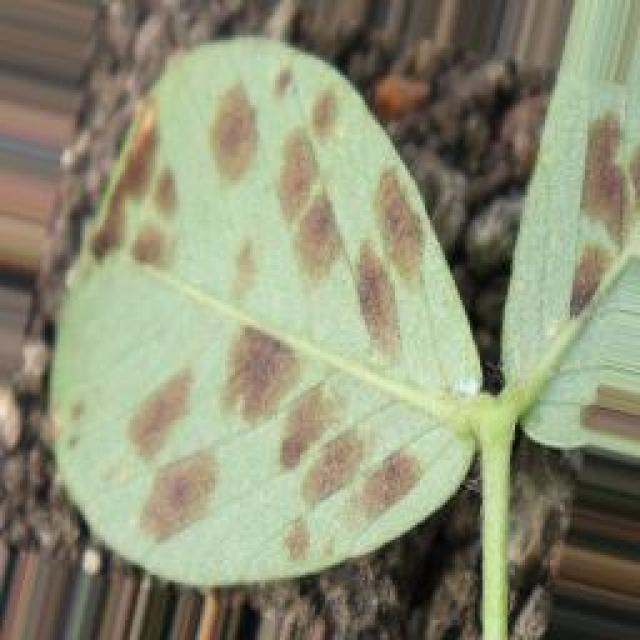Whitefly: (35, 32, 461, 598)
